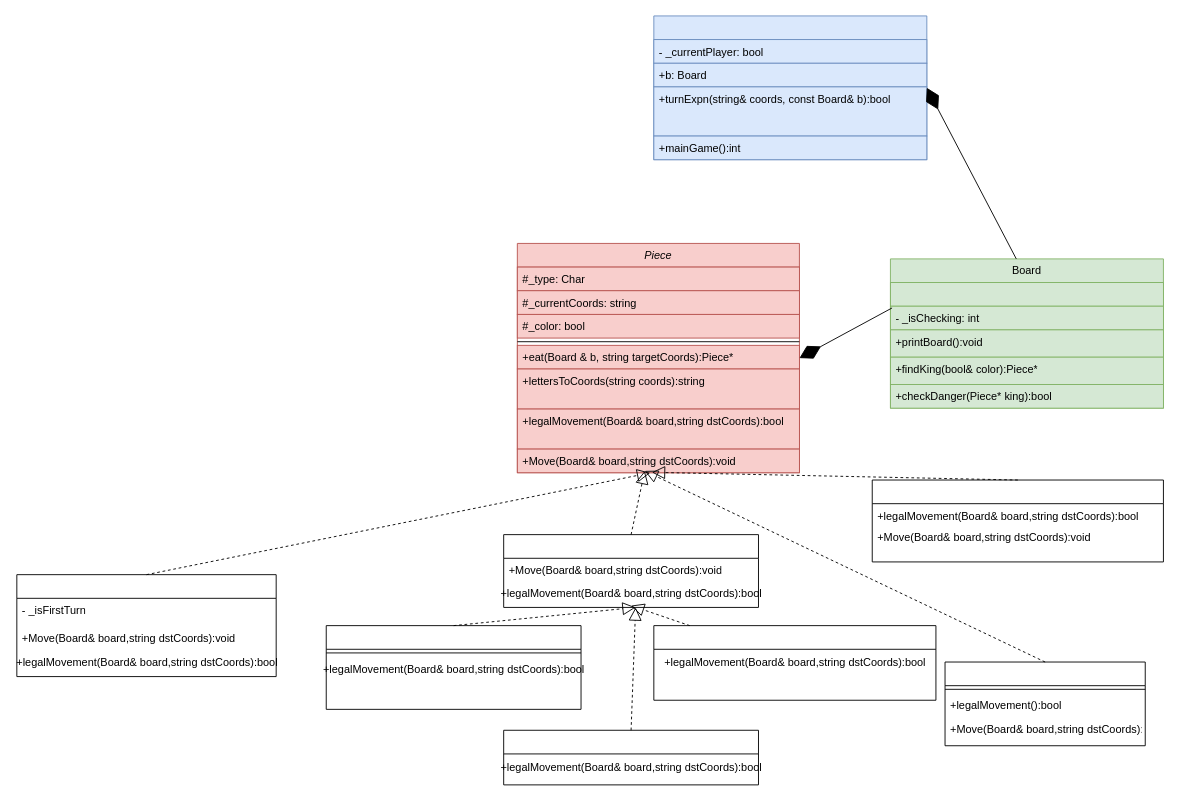
Image size: 1179x801. Some labels were removed from this diagram. The shapes that lost their labels are listed below. From the top down, each one's box as (x1, y1, x2, y2) in pixels, then its label:
(653, 15, 927, 160): GameManager
(890, 282, 1163, 306): +board: Piece* [] []
(871, 479, 1163, 562): Knight
(503, 534, 758, 607): LinearMovement
(16, 574, 276, 677): Pawn
(325, 625, 581, 709): Bishop
(653, 625, 936, 700): Rook
(944, 661, 1145, 746): King
(503, 729, 758, 785): Queen
